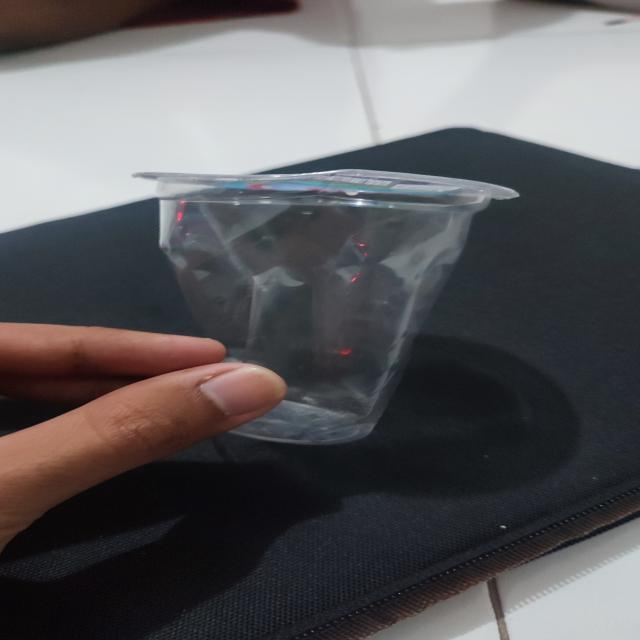air-gelas-rusak: (157, 158, 541, 476), (106, 38, 115, 71)
